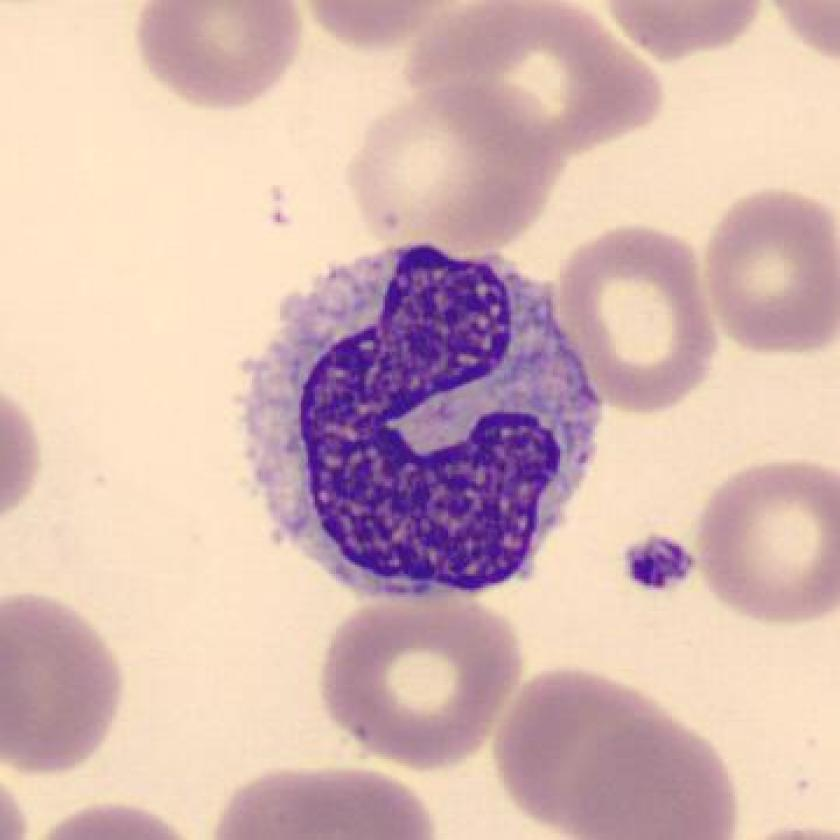monocyte: (220, 221, 622, 630)
